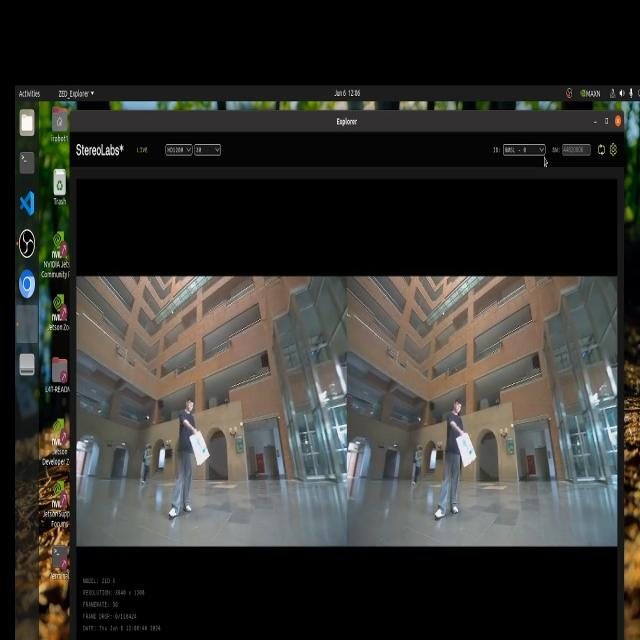blue: (191, 433, 212, 465), (458, 433, 474, 465)
